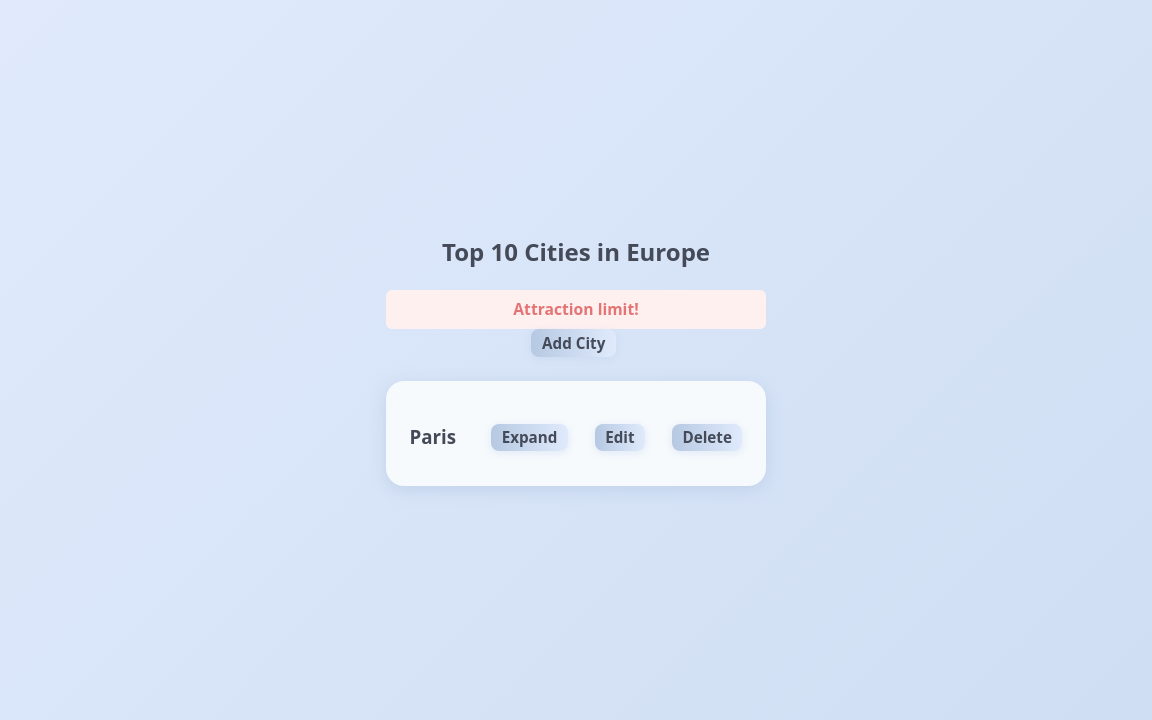
Test case: CityList › passes error to AttractionList and RestaurantList
Click the button "Expand". click: coordinates (530, 437)
box: [491, 424, 568, 451]
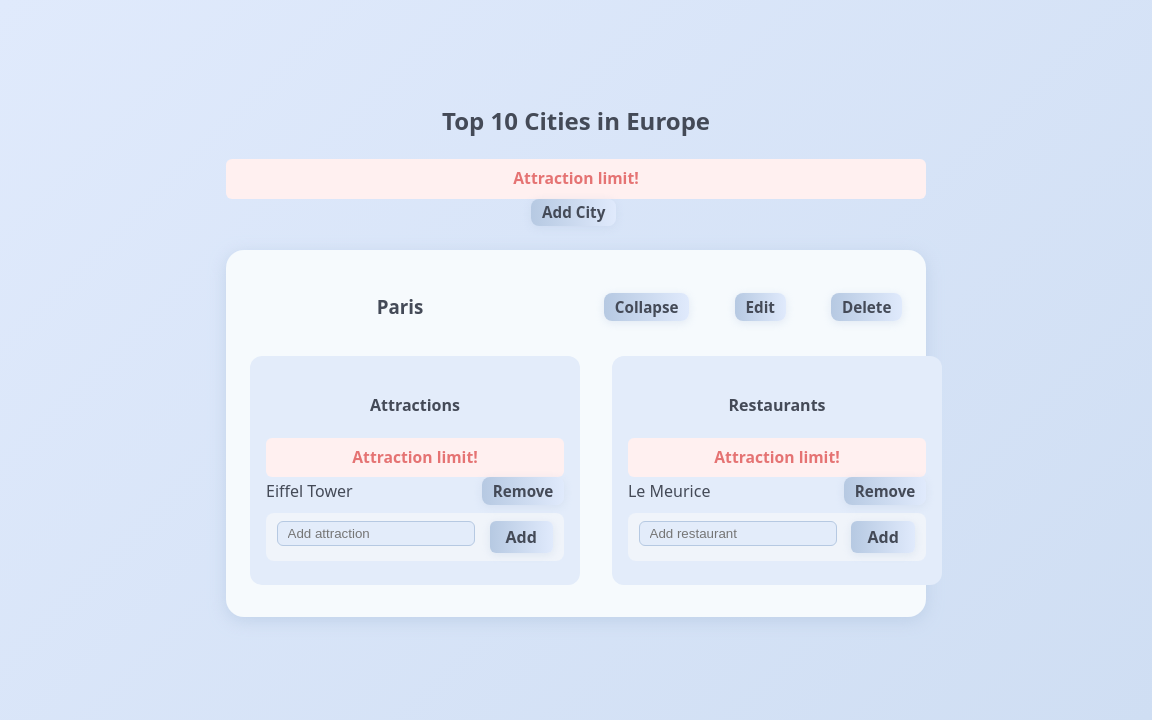
Expected: the text "Attraction limit!" is shown 3 times, [226, 159, 926, 198]; [266, 438, 564, 477]; [628, 438, 926, 477]
